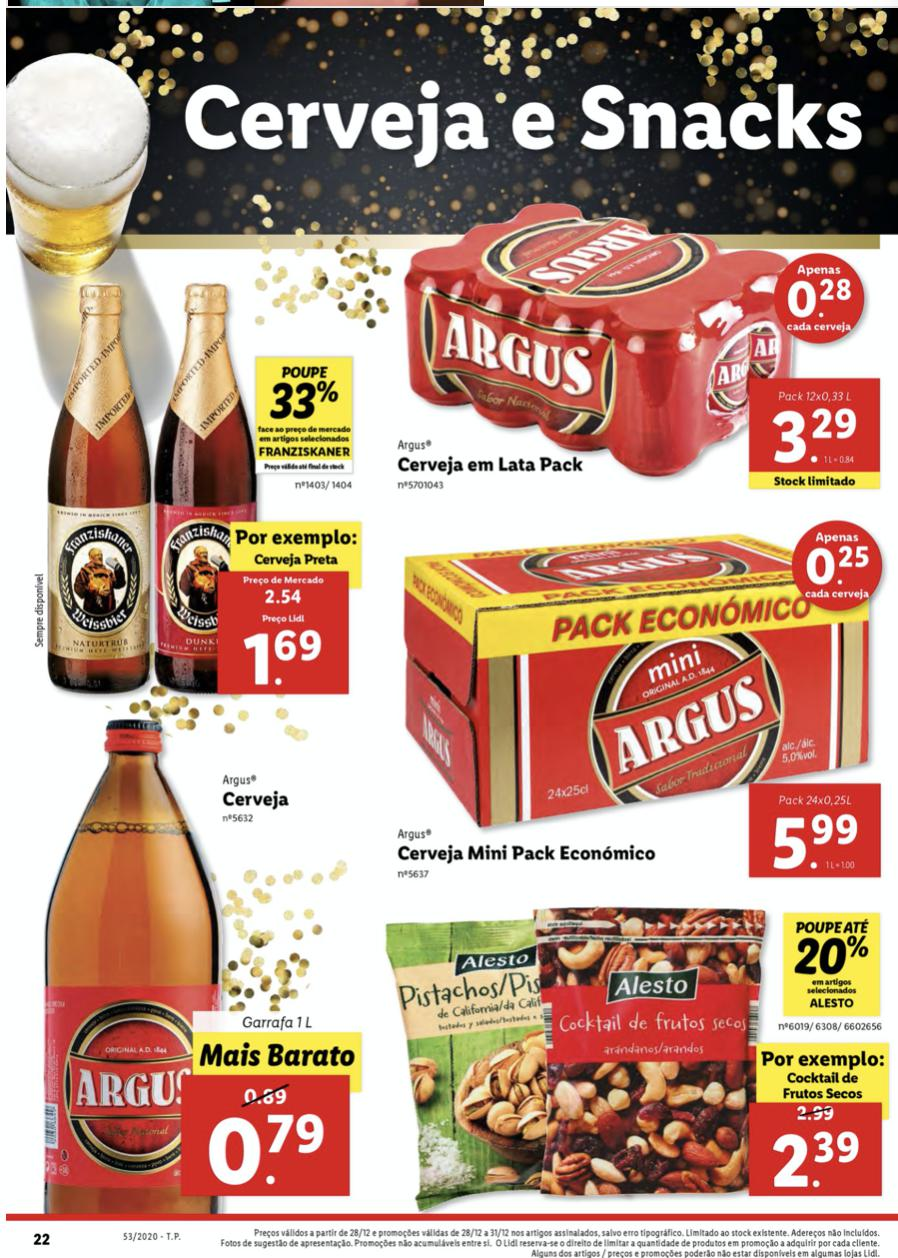name: (397, 842, 658, 869), (391, 453, 589, 476), (220, 786, 294, 815)
price: (203, 1108, 327, 1186), (241, 625, 327, 692), (767, 812, 858, 872), (775, 1130, 861, 1190), (777, 405, 859, 467)
product: (383, 501, 888, 889), (8, 715, 364, 1205), (380, 894, 883, 1215), (19, 264, 370, 709), (375, 208, 898, 495)
promotion: (791, 931, 875, 978), (264, 380, 342, 420)
